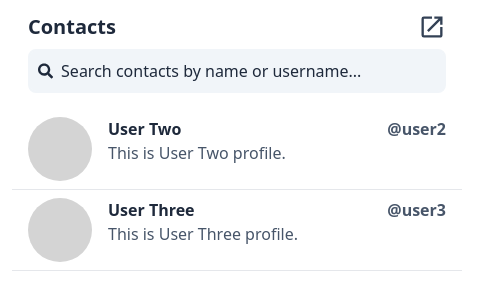
Test: <ListMenu /> › Contacts Menu › filters contacts by search input
The width and height of the screenshot is (479, 288).
Clear the field with test id "contact-search-input" at (249, 71), box [61,59,436,83]
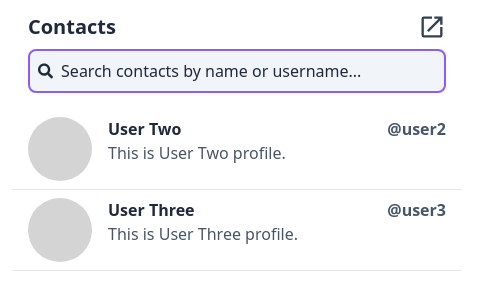
Type keys "Alice Jones"
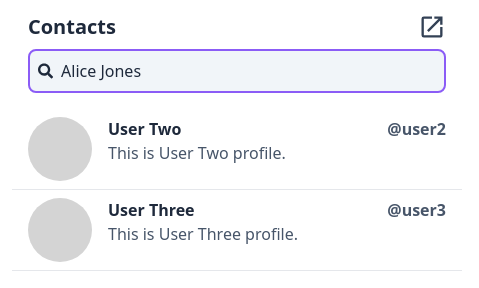
expect the field with test id "contact-search-input" holds "Alice Jones": met, box [61,59,436,83]
